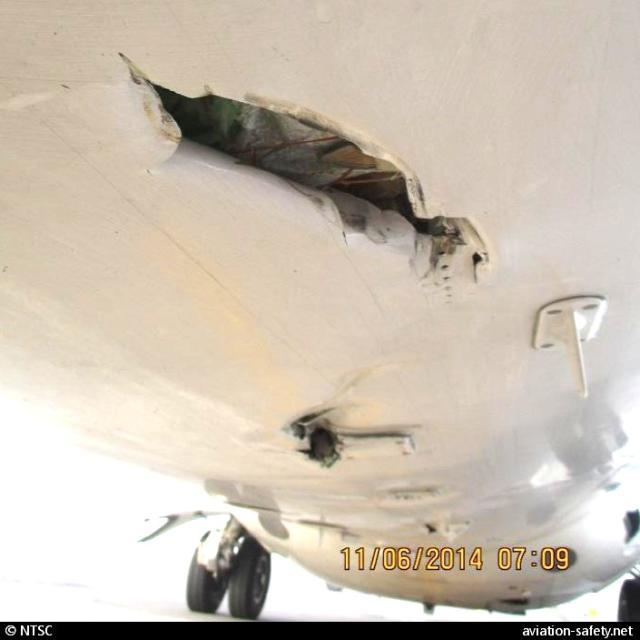crack: (120, 54, 498, 299)
